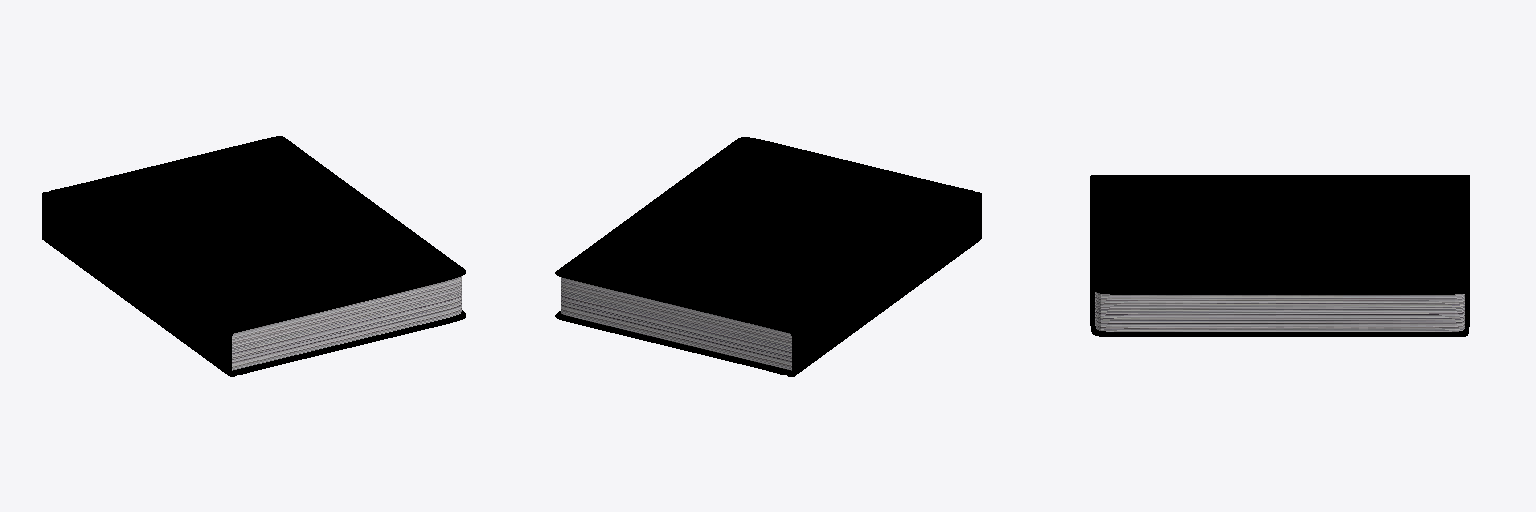
The picture shows the model from 3 angles: view 1: azimuth 30°, elevation 25°; view 2: azimuth 150°, elevation 25°; view 3: azimuth 270°, elevation 25°; orthographic projection.
Visible parts, largest first — view 1: polySurface59; view 2: polySurface59; view 3: polySurface59.
Part boxes in pixels (left/top/right/bottom): polySurface59: left=42, top=136, right=465, bottom=376; polySurface59: left=555, top=137, right=981, bottom=376; polySurface59: left=1090, top=175, right=1469, bottom=336.
Size of the model in its own units: 0.3567 by 0.0668 by 0.4864.
Materials: 2 (1 with a texture image).